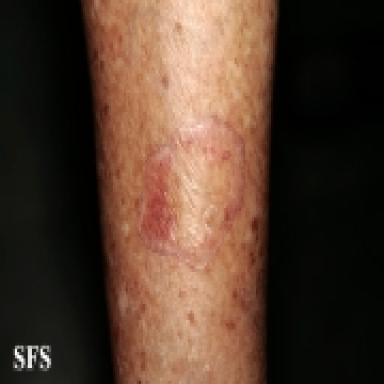Porokeratosis: (139, 118, 245, 267)
